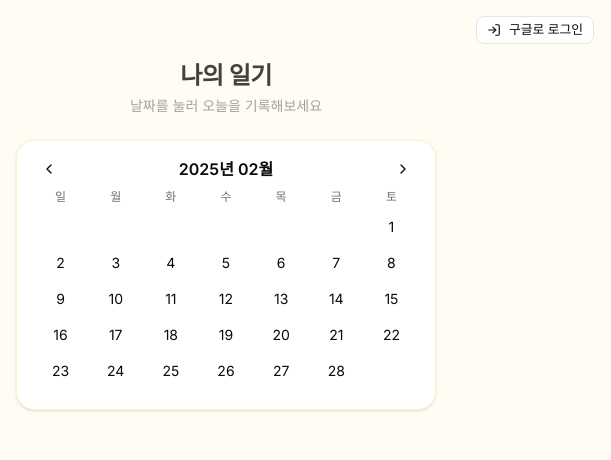
Test: DIARY-011: 캘린더 이전/다음 월 이동 › 2월 캘린더에서 다음 달 버튼을 클릭하면 3월 캘린더로 전환되고 2025-03-05에 dot 표시가 나타난다
다음 달 버튼 클릭
Click the button named "다음" at (403, 169), box [391,157,415,181]
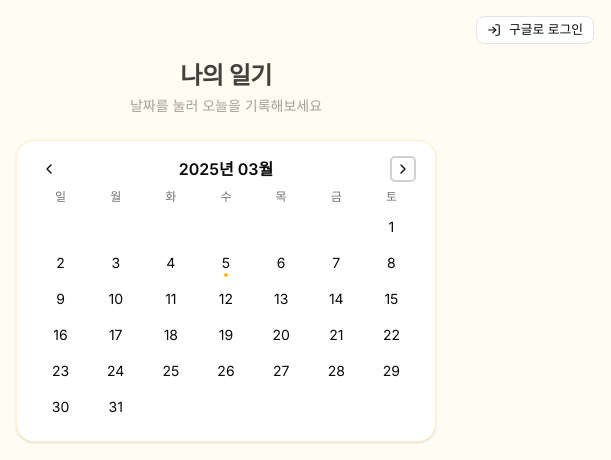
Expected: the text "2025년 03월" is shown, [179,157,273,181]
Expected: the element with test id "diary-dot-2025-03-05" is shown, [224,273,228,277]
